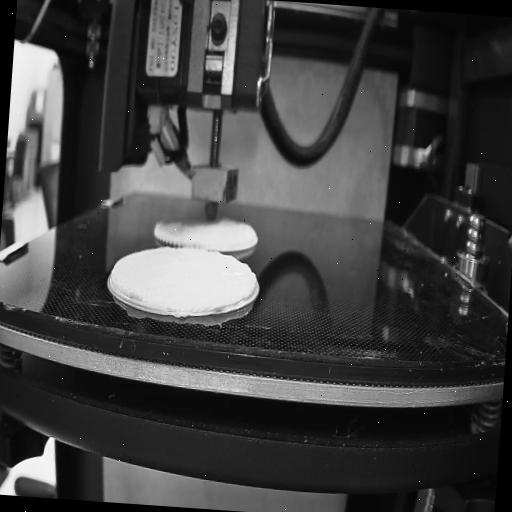over_extrusion: (245, 273, 260, 300)
